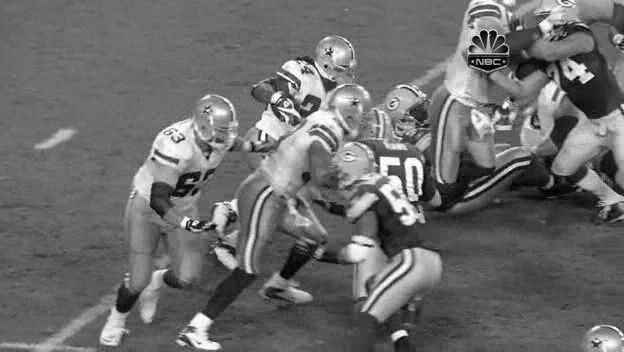person: (323, 33, 358, 78), (322, 33, 357, 78), (324, 33, 359, 78), (323, 32, 358, 77), (323, 34, 358, 79)
target_negative: (119, 3, 521, 146), (294, 112, 597, 220), (163, 299, 568, 338), (449, 58, 558, 137), (323, 321, 595, 336), (342, 351, 448, 352)
